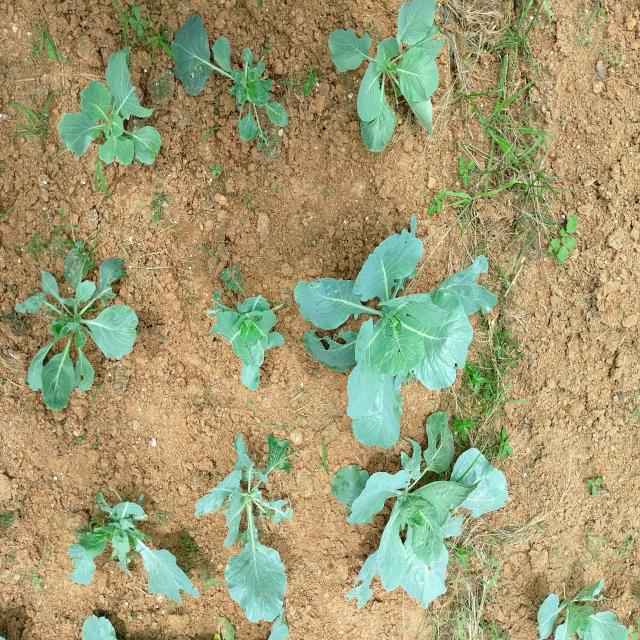Cabbage: (302, 231, 489, 429), (341, 444, 504, 604), (182, 450, 331, 615), (326, 10, 466, 166), (17, 256, 154, 411), (36, 54, 177, 200), (52, 471, 188, 602), (171, 25, 295, 123), (202, 266, 287, 394)
